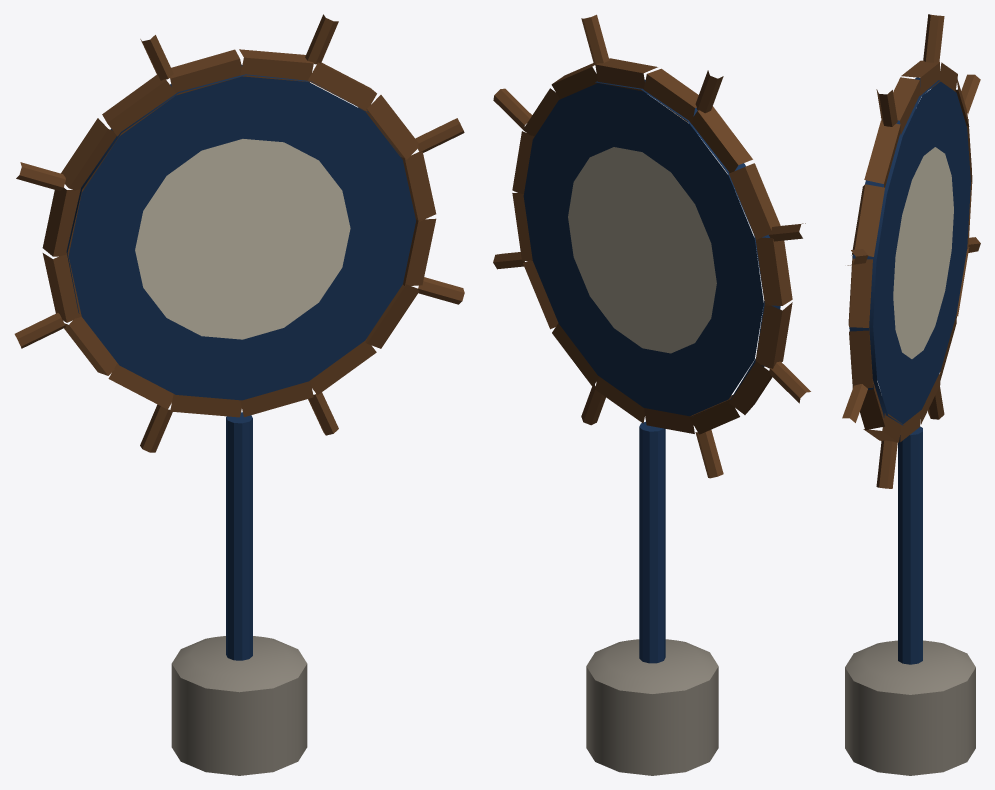
The model's file is wharfCrab_lod1.glb.
3 renders of one model, left to right at view 1: azimuth 30°, elevation 25°; view 2: azimuth 150°, elevation 25°; view 3: azimuth 270°, elevation 25°, orthographic. The views are drawn at different scales.
Visible parts, largest first — view 1: L1_paint, L1_wood, L1_granite, L1_metal; view 2: L1_paint, L1_wood, L1_granite, L1_metal; view 3: L1_paint, L1_granite, L1_wood, L1_metal.
Part boxes in pixels (left/top/right/bottom): L1_paint: left=66, top=64, right=415, bottom=400; L1_wood: left=14, top=14, right=464, bottom=452; L1_granite: left=171, top=636, right=307, bottom=775; L1_metal: left=226, top=412, right=252, bottom=660; L1_paint: left=523, top=80, right=780, bottom=416; L1_wood: left=493, top=14, right=810, bottom=478; L1_granite: left=586, top=639, right=718, bottom=775; L1_metal: left=639, top=421, right=665, bottom=663; L1_paint: left=849, top=77, right=970, bottom=425; L1_granite: left=845, top=640, right=975, bottom=775; L1_wood: left=842, top=14, right=980, bottom=488; L1_metal: left=898, top=426, right=922, bottom=664.
Size of the model in its own units: 7.21 by 12.94 by 2.37.
